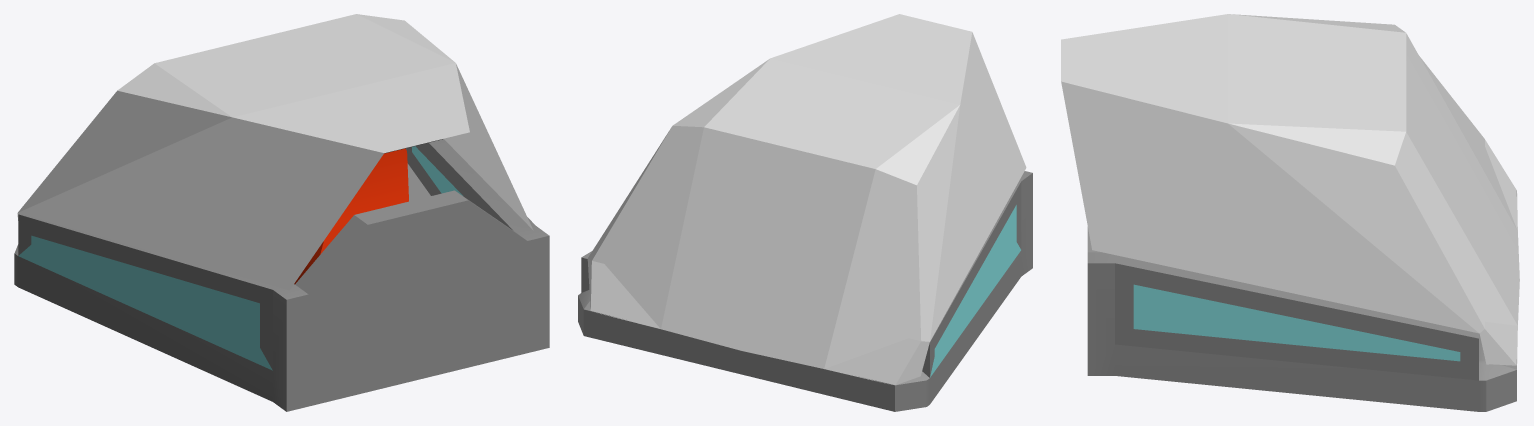
The model's file is Interior_NOTUV.FBX.
3 views of the same model, side by side, from view 1: azimuth 30°, elevation 25°; view 2: azimuth 150°, elevation 25°; view 3: azimuth 270°, elevation 25° (orthographic). The views are drawn at different scales.
Visible parts, largest first — view 1: Plane001, Box003, Box001; view 2: Plane001, Box003; view 3: Plane001, Box003.
Boxes of the visible parts, left/top/right/bottom form: Plane001: left=17, top=14, right=533, bottom=290; Box003: left=14, top=139, right=549, bottom=411; Box001: left=294, top=148, right=408, bottom=284; Plane001: left=587, top=14, right=1026, bottom=385; Box003: left=578, top=171, right=1032, bottom=411; Plane001: left=1061, top=14, right=1519, bottom=365; Box003: left=1087, top=190, right=1516, bottom=411.
Bounding box in the file's own units: 275 × 158 × 265.
